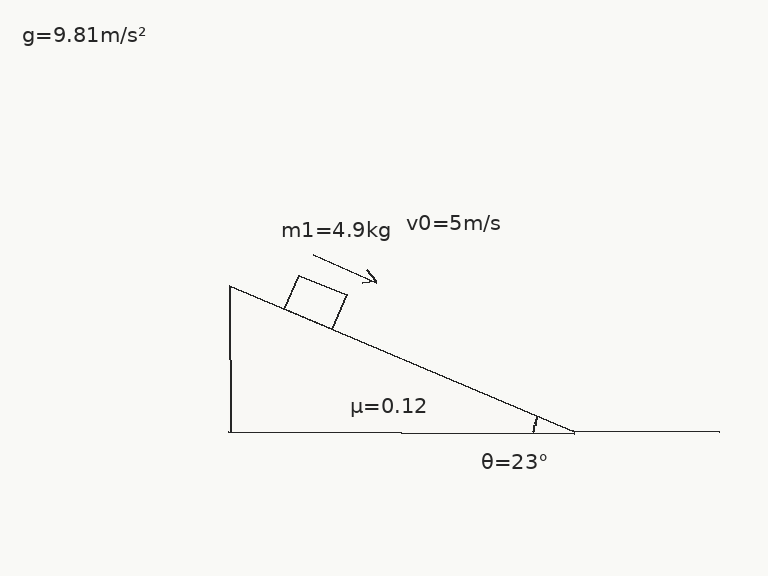block: (282, 273, 348, 331)
ramp: (227, 283, 576, 434)
